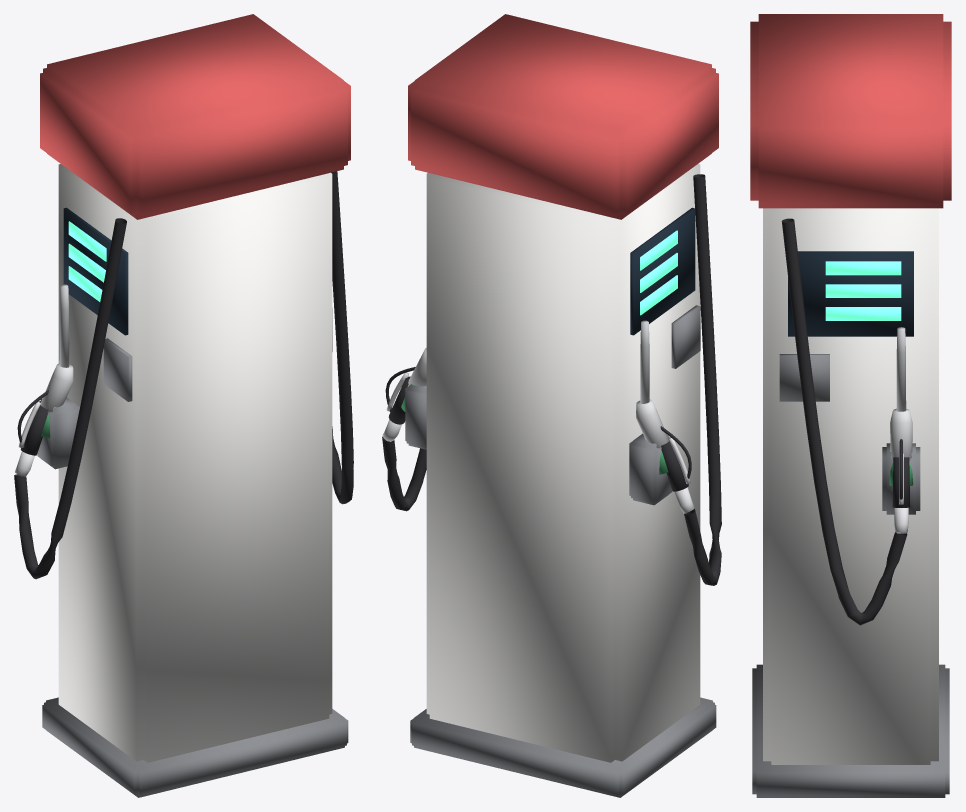
File: fuel_pump.glb
The picture shows the model from 3 angles, left to right: view 1: azimuth 30°, elevation 25°; view 2: azimuth 150°, elevation 25°; view 3: azimuth 270°, elevation 25°; orthographic projection. The views are drawn at different scales.
Parts seen in each view (by area): view 1: body, head, plinth, hose_B, hose_A, screen_B, holster_B, keypad_B, body.002, spout.001, grip.001; view 2: body, head, plinth, hose_B, screen_B, holster_B, hose_A, keypad_B, holster_A, body.002, spout.001, grip.001; view 3: body, head, plinth, screen_A, hose_A, keypad_A, holster_A, digits_A0, digits_A1, digits_A2, body.001, spout (+2 smaller).
Part boxes in pixels (x1,y1,x2,y2): body: (58, 164, 332, 762); head: (40, 14, 350, 219); plinth: (42, 697, 348, 797); hose_B: (14, 218, 126, 579); hose_A: (331, 171, 353, 504); screen_B: (63, 207, 128, 335); holster_B: (37, 397, 79, 469); keypad_B: (103, 338, 132, 401); body.002: (40, 363, 73, 413); spout.001: (59, 284, 69, 367); grip.001: (20, 405, 48, 455); body: (426, 164, 700, 762); head: (408, 14, 718, 219); plinth: (410, 697, 716, 797); hose_B: (684, 174, 721, 585); screen_B: (630, 207, 695, 335); holster_B: (629, 433, 672, 505); hose_A: (382, 436, 426, 511); keypad_B: (671, 305, 700, 368); holster_A: (405, 384, 426, 449); body.002: (636, 399, 668, 449); spout.001: (640, 320, 649, 403); grip.001: (661, 441, 688, 491); body: (763, 208, 938, 764); head: (750, 14, 951, 208); plinth: (752, 664, 949, 797); screen_A: (788, 251, 913, 336); hose_A: (781, 218, 907, 625); keypad_A: (779, 354, 829, 401); holster_A: (882, 443, 920, 514); digits_A0: (825, 261, 901, 275); digits_A1: (825, 284, 901, 297); digits_A2: (825, 307, 901, 320); body.001: (890, 408, 912, 460); spout: (896, 327, 906, 411).
Bounding box in the file's own units: 0.897 × 1.79 × 0.48.
